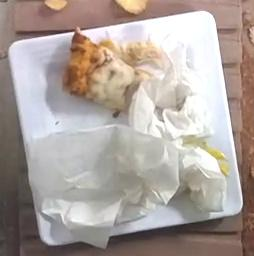pizza_crust: (64, 28, 164, 117)
